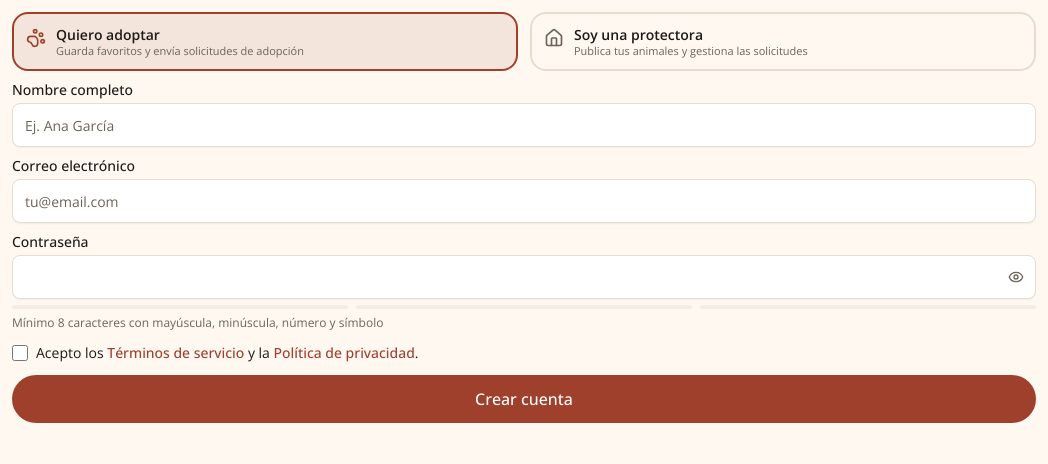
Test: RegisterForm › no registra sin aceptar la política de privacidad y muestra el error
In the field labelled "Nombre completo": (524,125) [12,103,1036,147], type "Ana García"
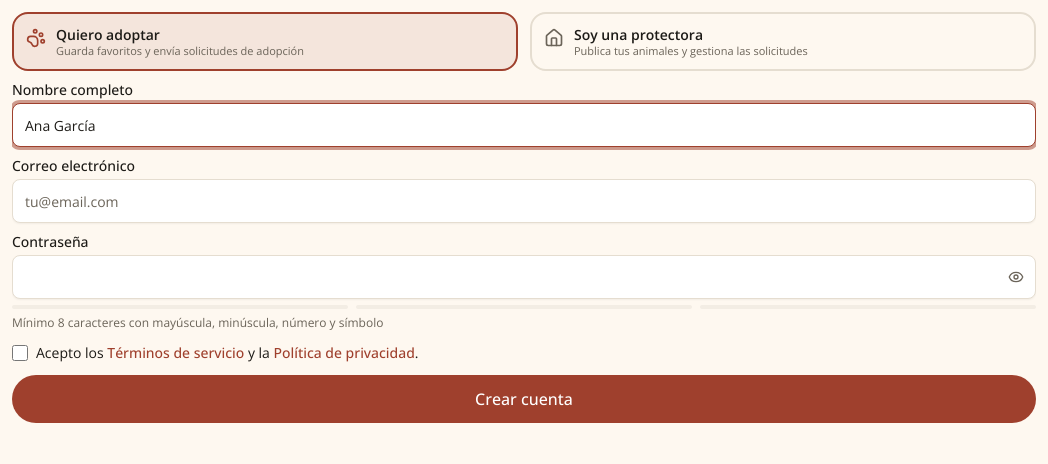
In the field labelled "Correo electrónico": (524,201) [12,179,1036,223], type "ana@example.com"
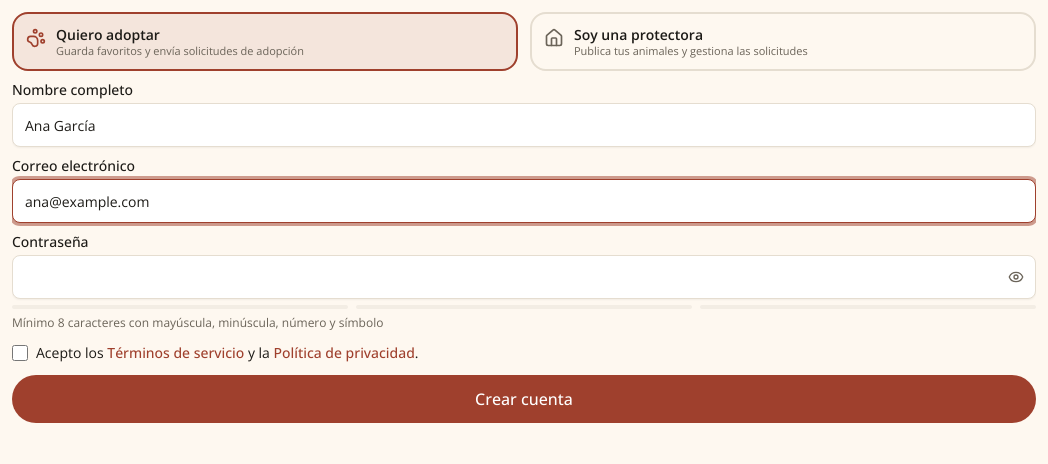
In the password field labelled "Contraseña": (524,277) [12,255,1036,299], type "Secreta-123!"
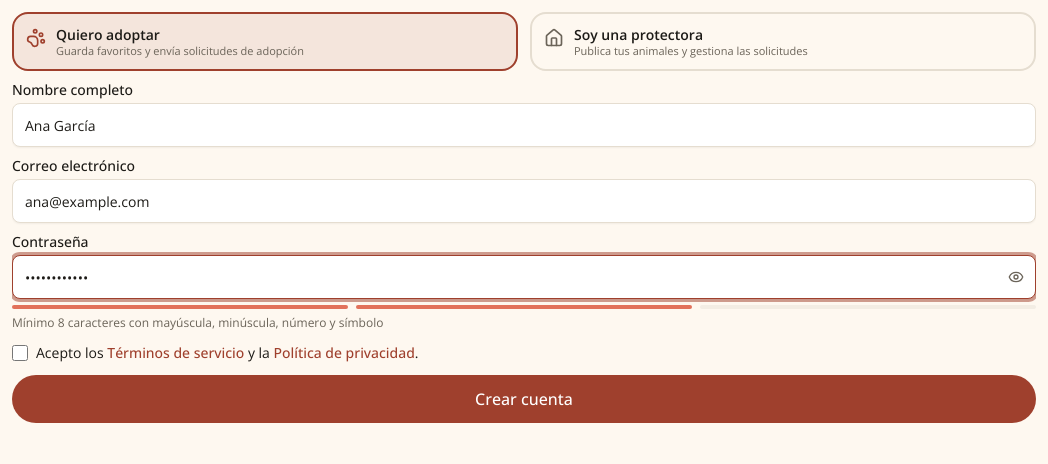
Click the button "Crear cuenta": (524,399) [12,375,1036,423]
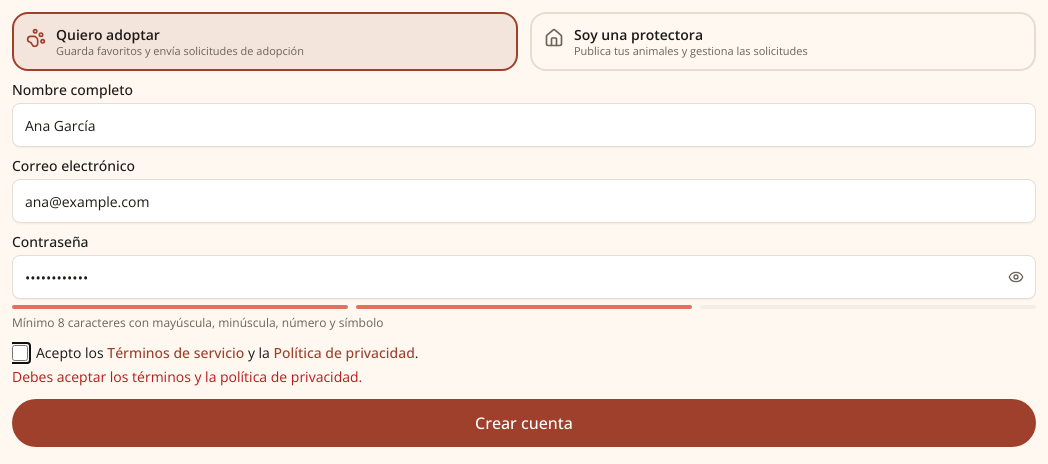
Expected: the text "Debes aceptar los términos y la política de privacidad." is shown, [12,367,362,386]
